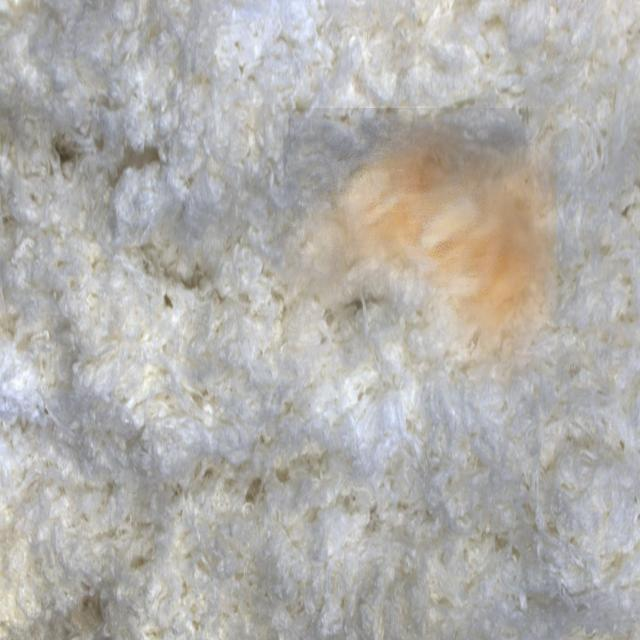dust: (283, 108, 557, 386)
